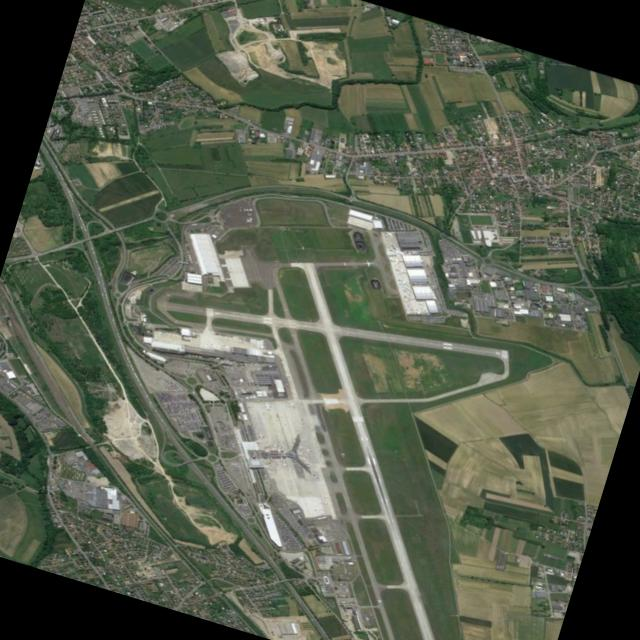plane: (382, 229, 395, 238), (390, 255, 401, 265), (390, 246, 402, 255), (403, 291, 413, 301), (400, 283, 410, 291), (396, 266, 406, 274), (262, 401, 271, 409), (362, 260, 373, 265)
